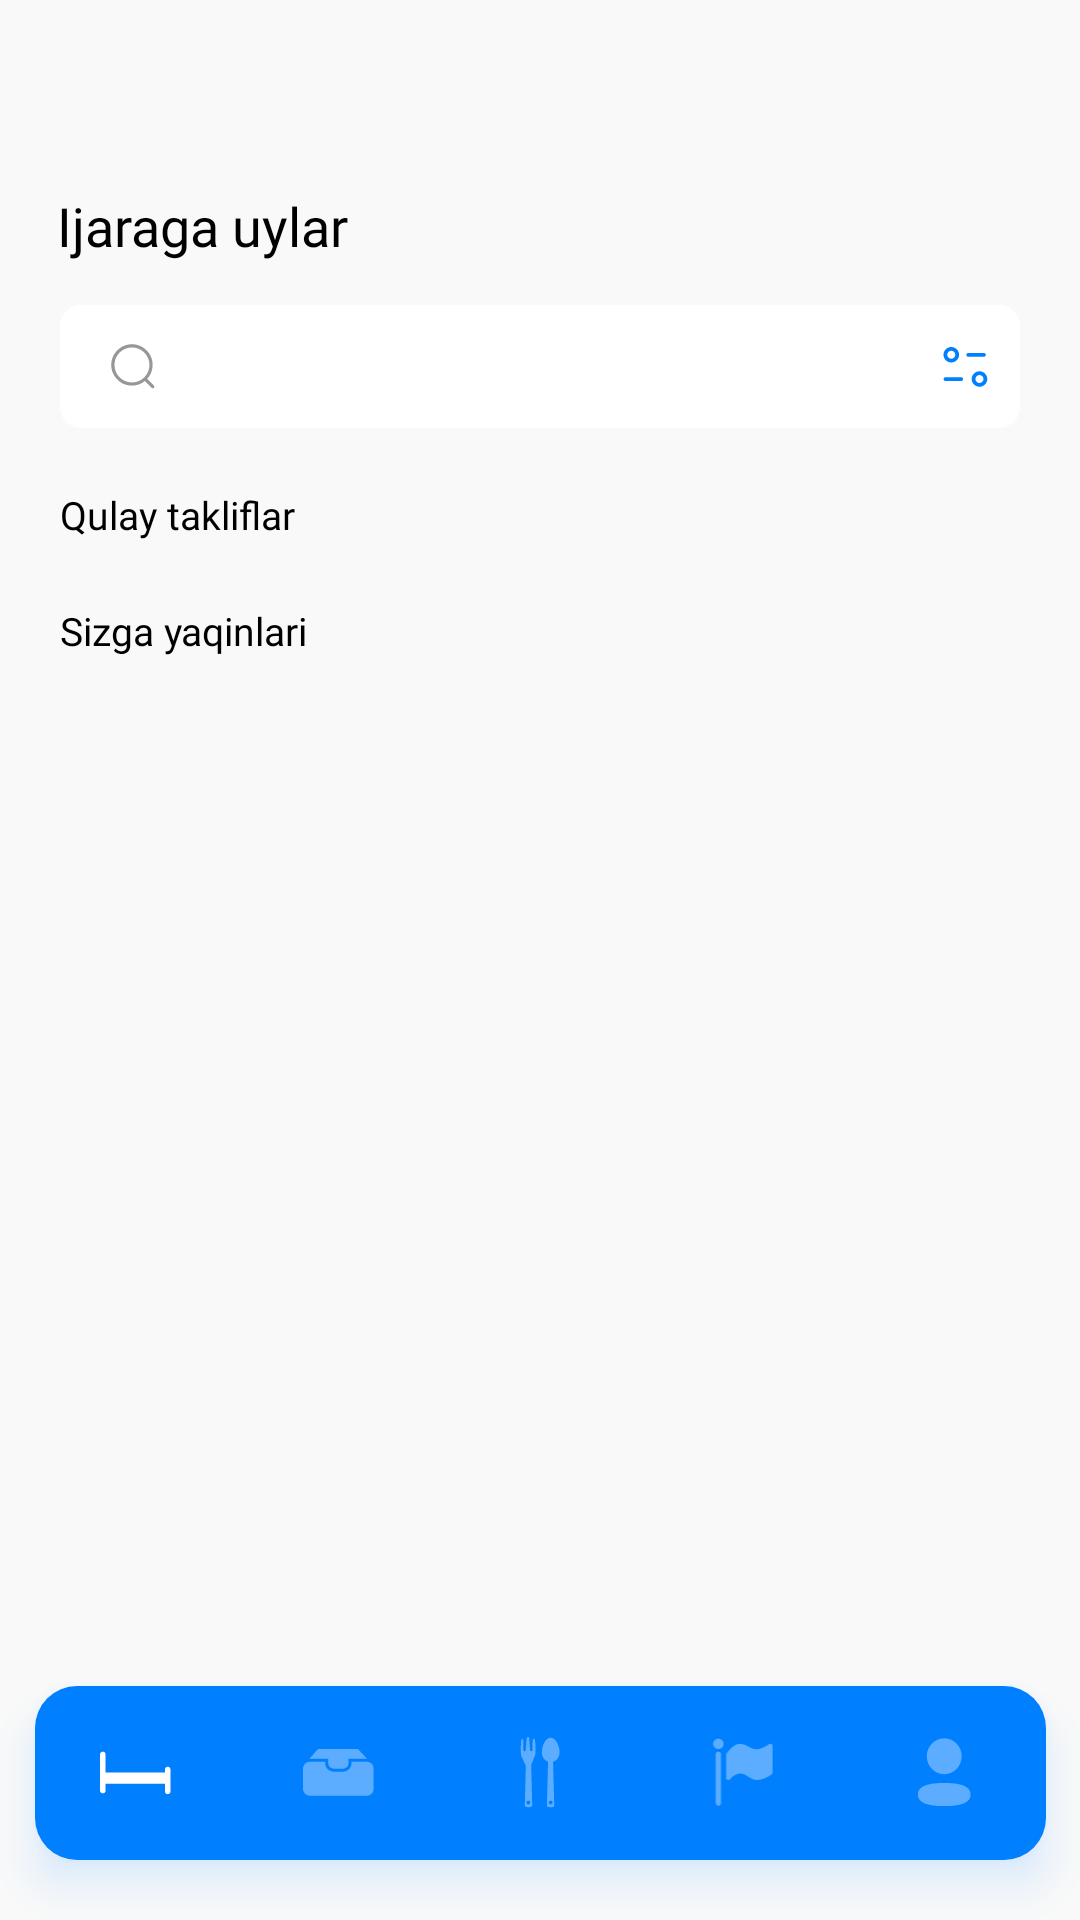

Point at icon controls on the screen. Image size 1080 × 1920, points as [x,y].
filter: [965,367]
